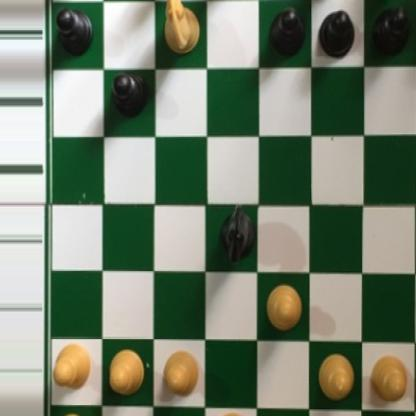black-knight: (219, 204, 255, 265)
black-pawn: (316, 5, 355, 62), (268, 4, 305, 62), (372, 4, 411, 57), (55, 7, 94, 59), (110, 70, 147, 120)
white-knight: (162, 0, 200, 55)
white-pawn: (369, 353, 408, 405), (50, 339, 92, 387), (312, 350, 354, 398), (105, 348, 147, 395), (162, 348, 201, 398), (265, 283, 303, 334)
white-queen: (209, 406, 251, 416)
white-rook: (42, 409, 93, 416)
